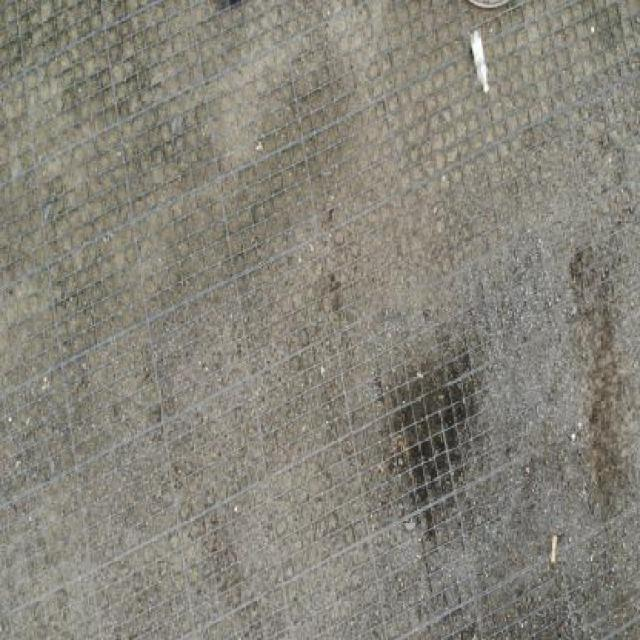Garbage: (468, 30, 489, 94), (550, 535, 558, 564)
